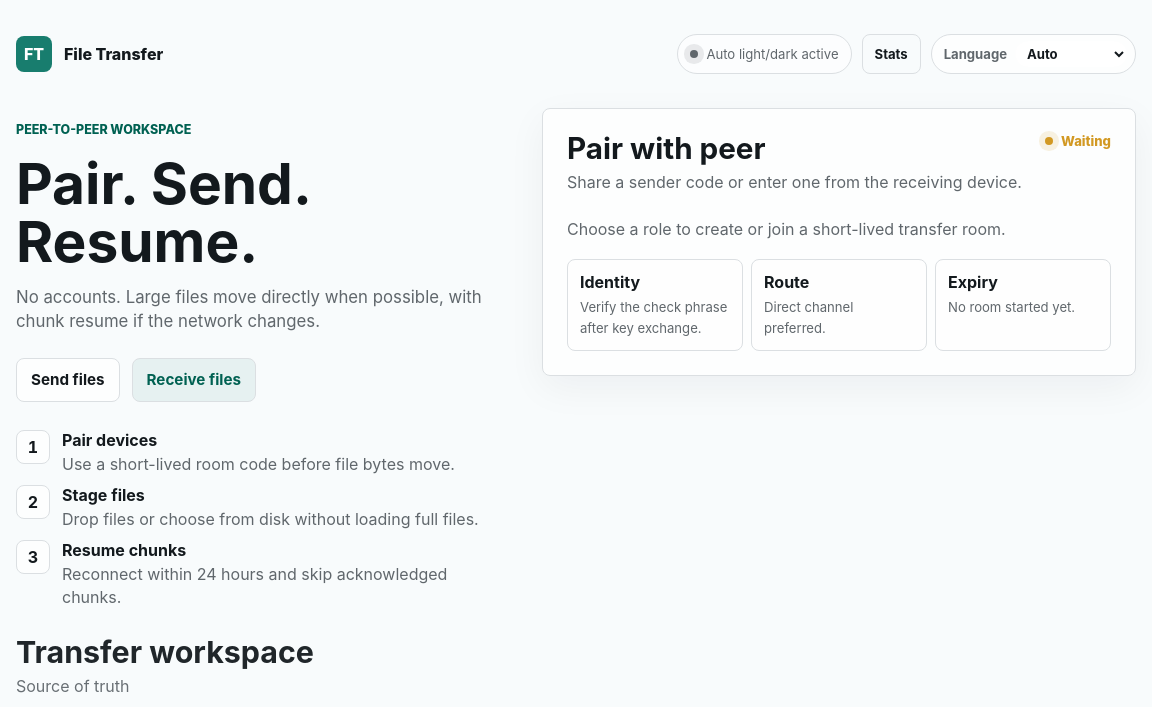
App › shows file picker and starts selected file count at zero when sending files
The width and height of the screenshot is (1152, 707).
Click the button "Send files": (68,380) [16,358,120,402]
(page scrolled)
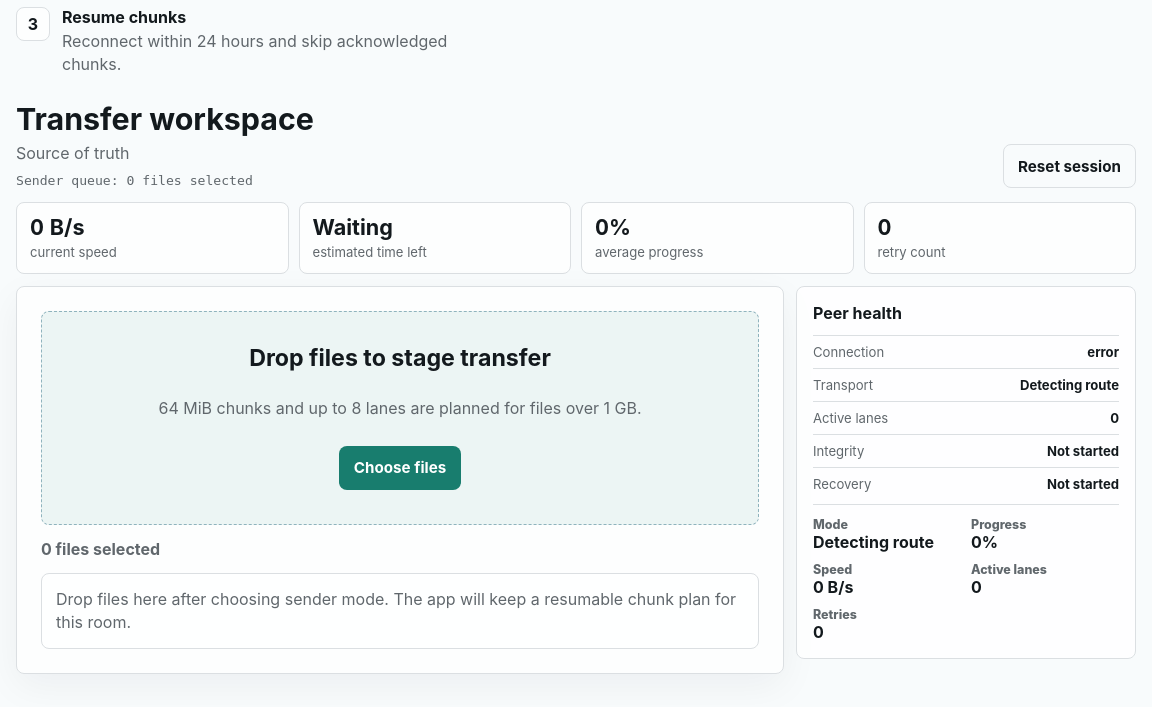
Expected: the file field named "Choose files" is shown, [41,311,759,525]
Expected: the text "0 files selected" is shown, [41,539,160,559]
